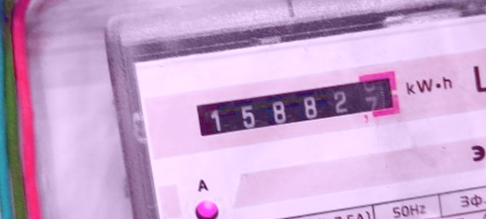1: (208, 106, 224, 133)
2: (331, 88, 350, 115)
5: (239, 102, 256, 130)
7: (363, 92, 380, 111)
8: (270, 97, 289, 124), (301, 93, 320, 120)
screen: (185, 63, 410, 151)
